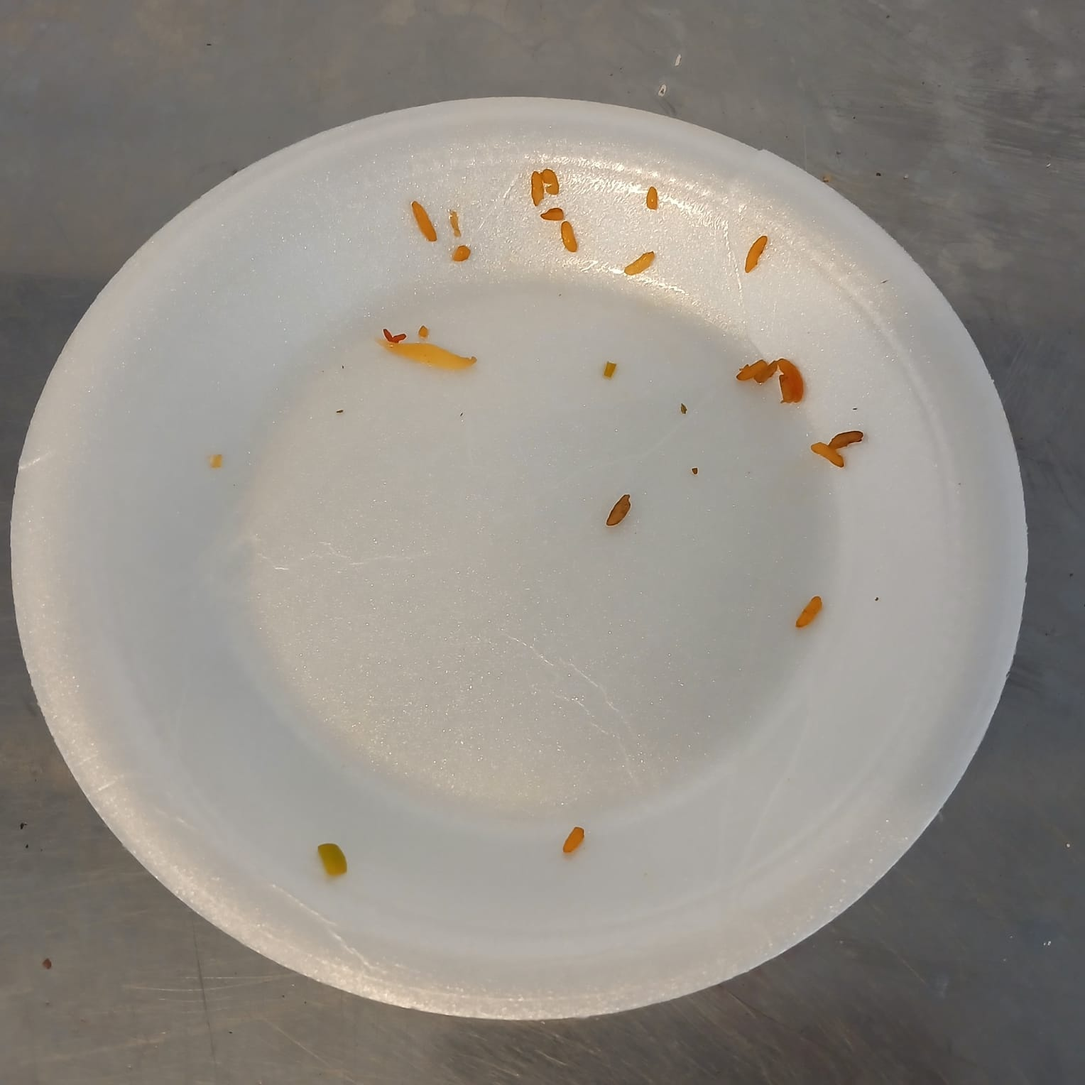Ordinario: (12, 94, 1031, 1024)
